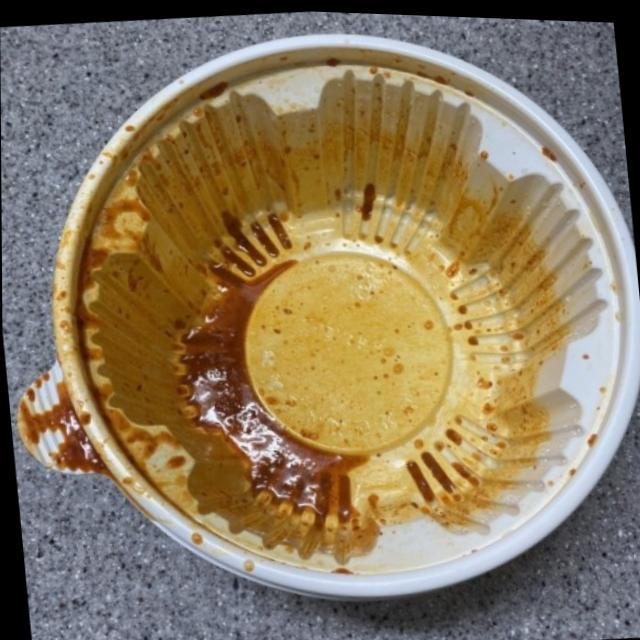bottle: (7, 30, 640, 608)
